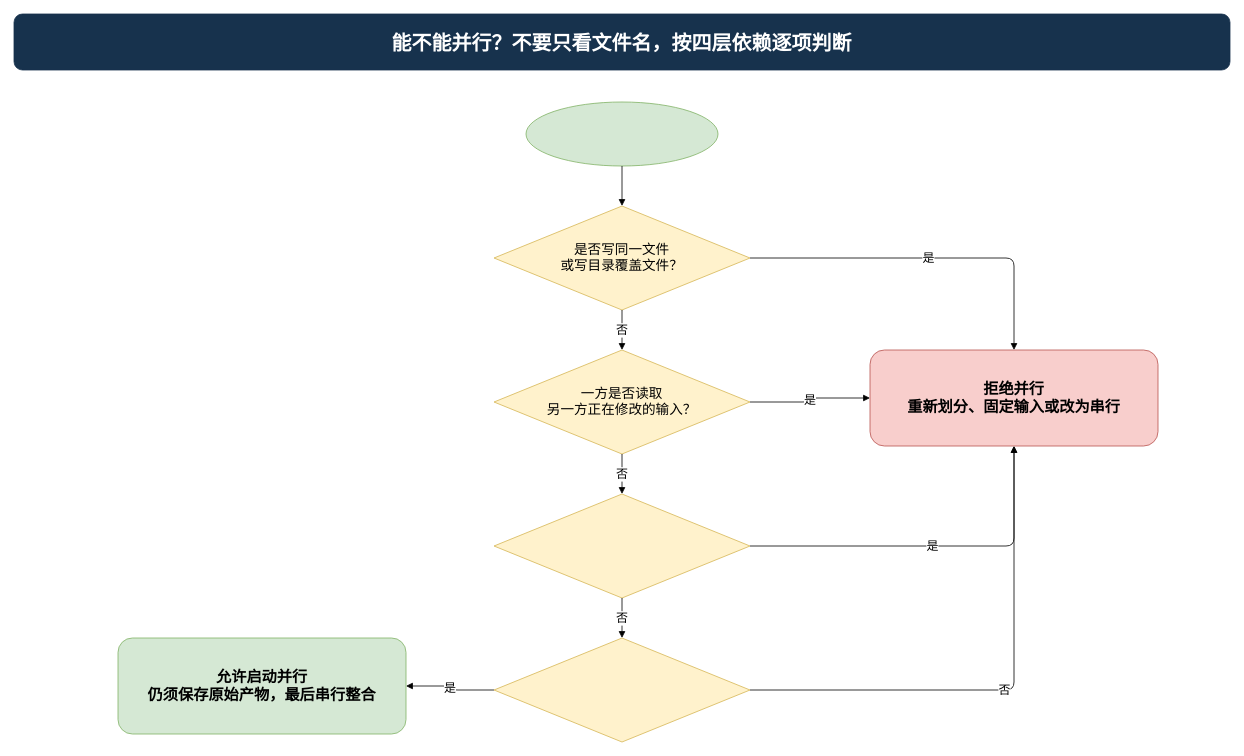
Some shapes in this 1244 by 756 pixel diagram are drawn without their labels. The centre of each missing label's shape, as x and y in pixels:
"两项任务" belongs at pixel 621 133.
"任务身份、输入版本、 停止条件是否明确？" belongs at pixel 621 689.
"是否共享数据库、端口、 报告、缓存或临时目录？" belongs at pixel 621 545.
